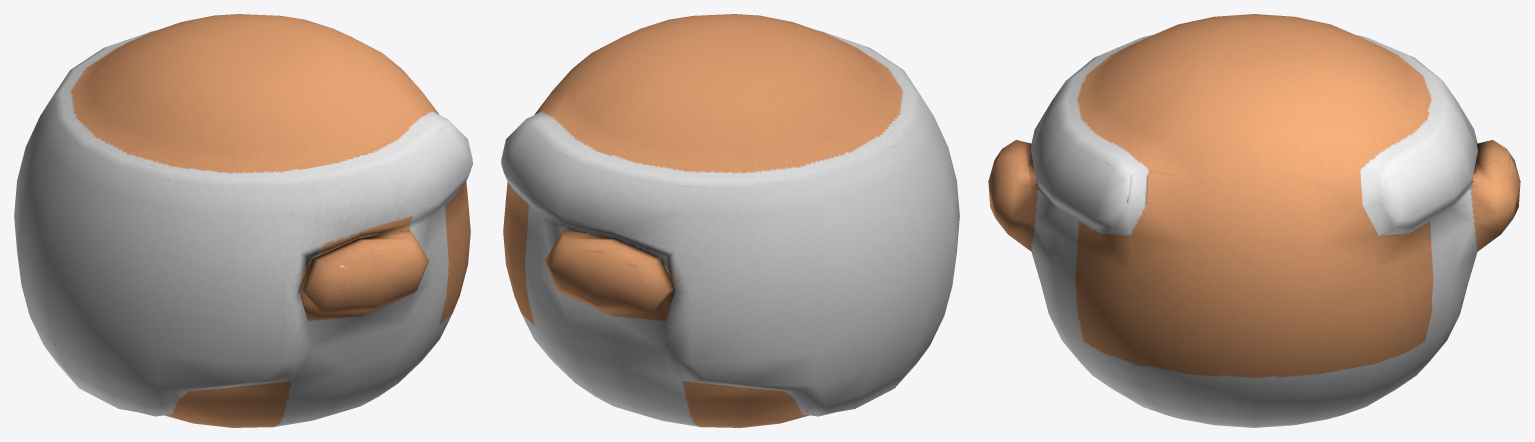
File: eptacio_head.obj
The picture shows the model from 3 angles, left to right: view 1: azimuth 30°, elevation 25°; view 2: azimuth 150°, elevation 25°; view 3: azimuth 270°, elevation 25°; orthographic projection.
Parts seen in each view (by area): view 1: Sphere; view 2: Sphere; view 3: Sphere.
Part boxes in pixels (x1,y1,x2,y2): Sphere: [14, 14, 472, 427]; Sphere: [501, 14, 959, 427]; Sphere: [988, 14, 1520, 427].
Size of the model in its own units: 1.93 by 1.63 by 2.26.
